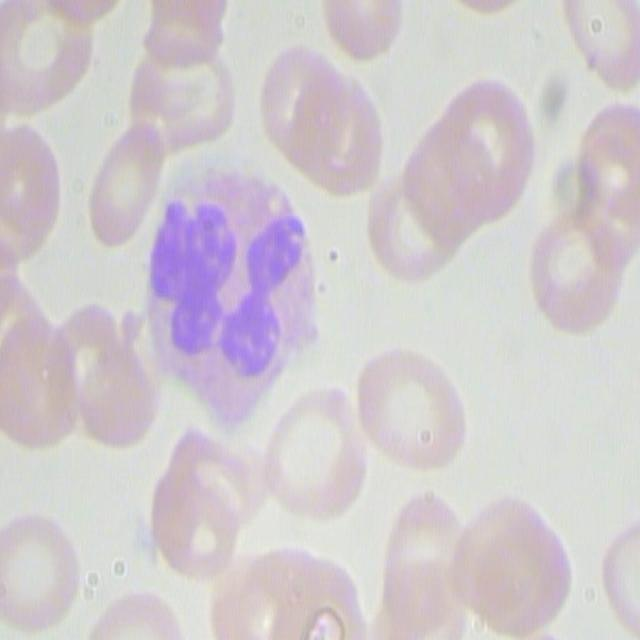RBC: (392, 67, 538, 252), (261, 48, 385, 200), (446, 494, 574, 636), (249, 368, 363, 524), (54, 296, 162, 453), (150, 426, 254, 587), (352, 342, 472, 478), (210, 538, 370, 639), (129, 15, 245, 152), (376, 480, 466, 632), (0, 277, 74, 453), (521, 213, 624, 336), (1, 0, 97, 111), (365, 175, 460, 282), (570, 98, 640, 243), (86, 122, 166, 248), (0, 116, 64, 271), (0, 509, 77, 632), (562, 0, 640, 88), (87, 587, 188, 640), (320, 0, 408, 59), (601, 514, 640, 638)
WBC: (150, 159, 320, 463)
